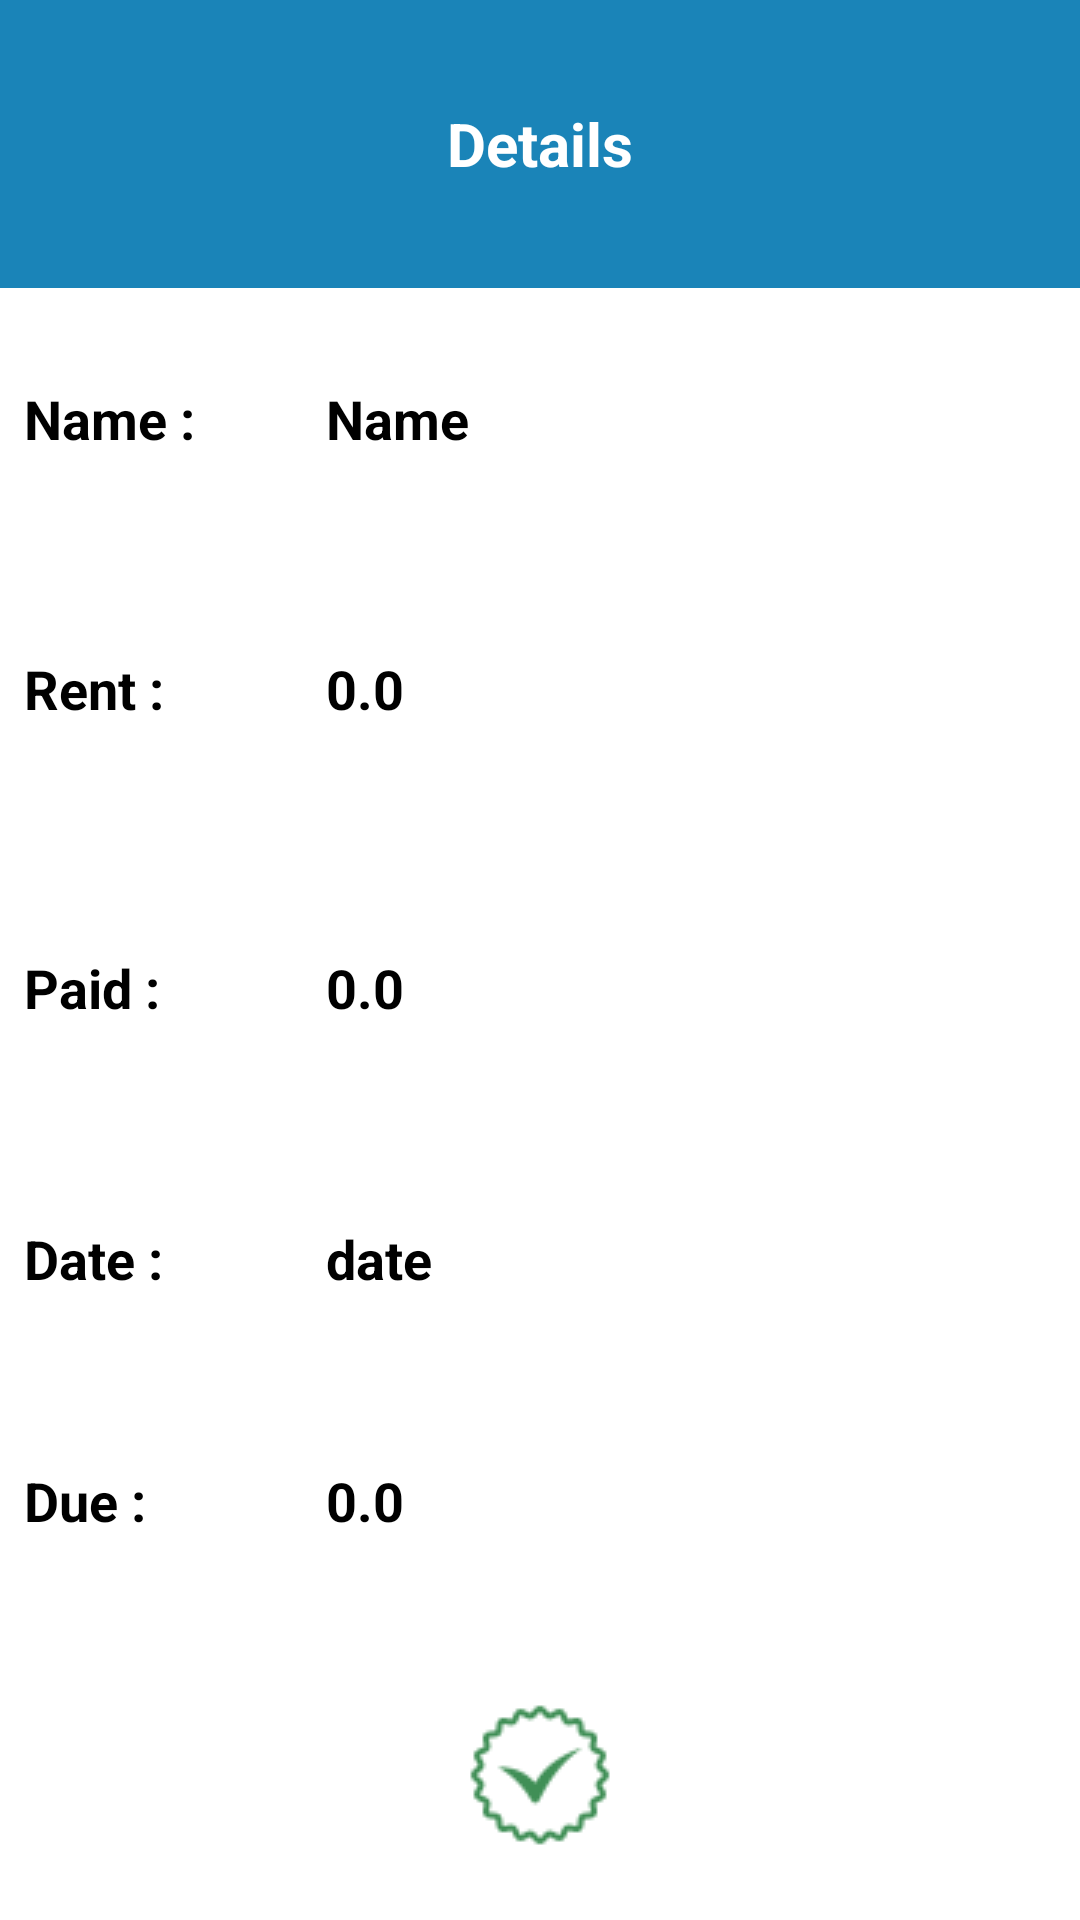

Icons on this 1080 x 1920 Android screen, each with the point to tap as [x,y]:
checkmark: [540,1775]
